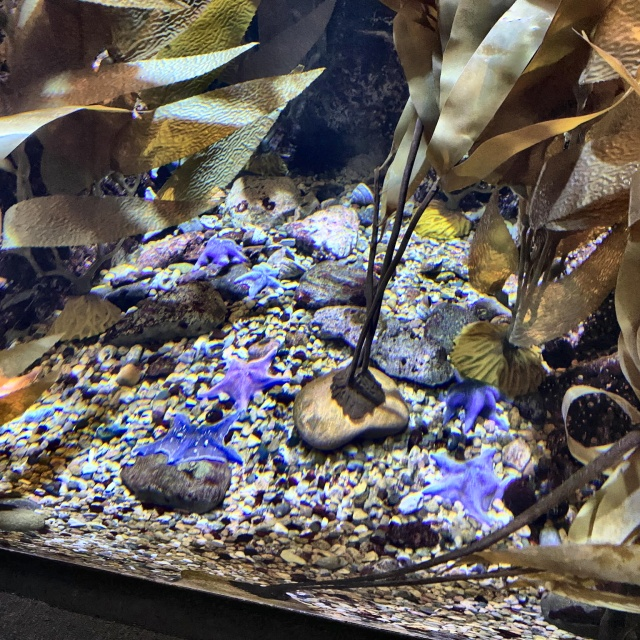starfish: (422, 445, 513, 530), (135, 410, 250, 468), (203, 347, 291, 413), (442, 372, 514, 436), (197, 234, 251, 273), (238, 263, 287, 297)
